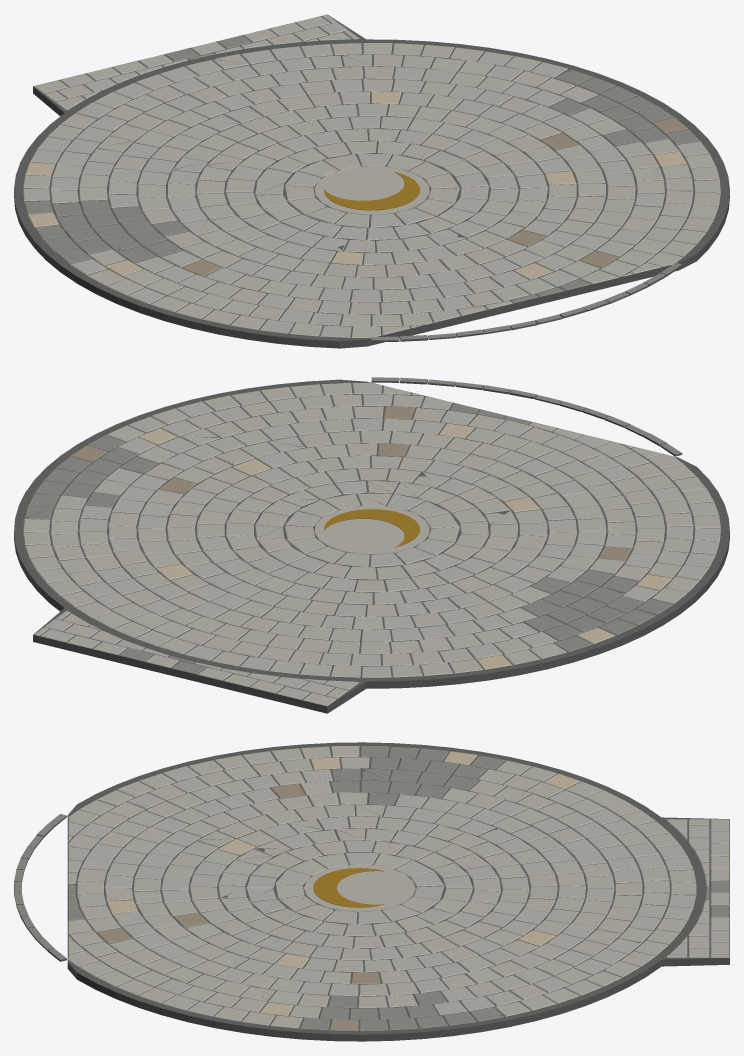
File: dojo_courtyard_floor.fbx
The picture shows the model from 3 angles, top to bottom: view 1: azimuth 30°, elevation 25°; view 2: azimuth 150°, elevation 25°; view 3: azimuth 270°, elevation 25°; orthographic projection. The views are drawn at different scales.
Parts seen in each view (by area): view 1: dojo_courtyard_floor; view 2: dojo_courtyard_floor; view 3: dojo_courtyard_floor.
Part boxes in pixels (x1,y1,x2,y2): dojo_courtyard_floor: (14,14,729,348); dojo_courtyard_floor: (14,377,729,713); dojo_courtyard_floor: (14,742,729,1041).
Bounding box in the file's own units: 37.9 × 0.5252 × 39.24.
